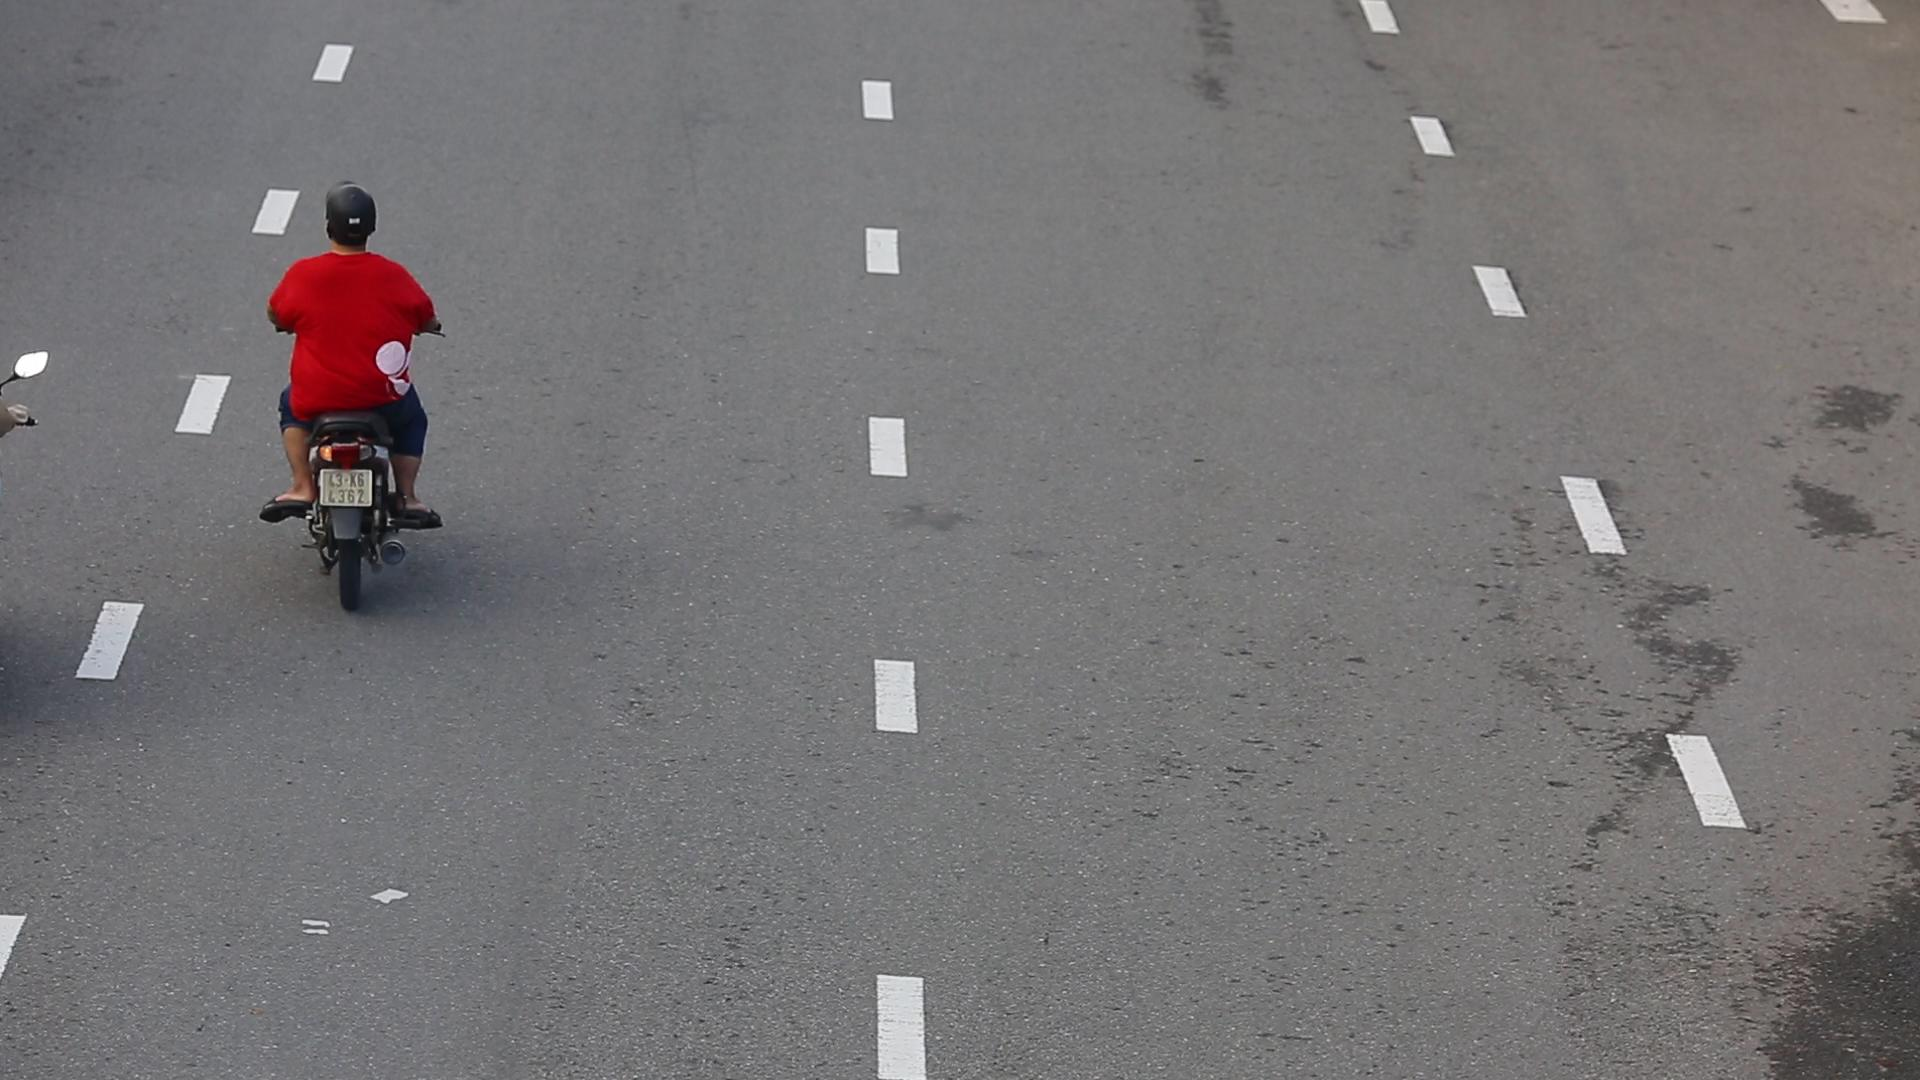motobike: (260, 177, 473, 608)
